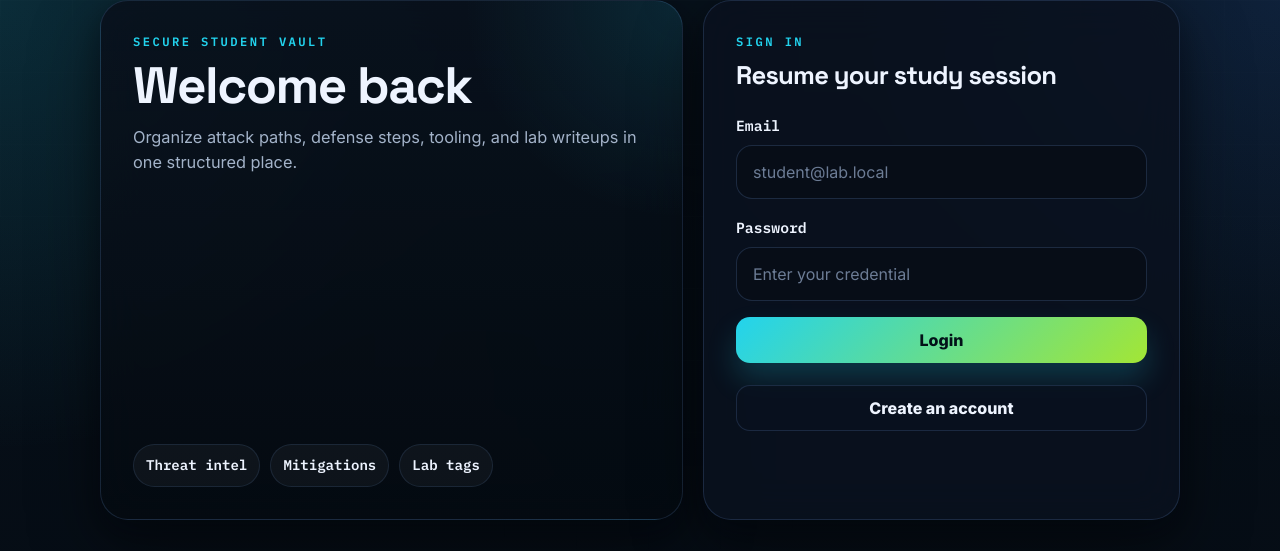
Test: AuthPage component › shows error state when auth response has no token
The image size is (1280, 551).
Type "user@example.com" into the field labelled "Email" at {"x": 942, "y": 172}, box [736,145,1147,199]
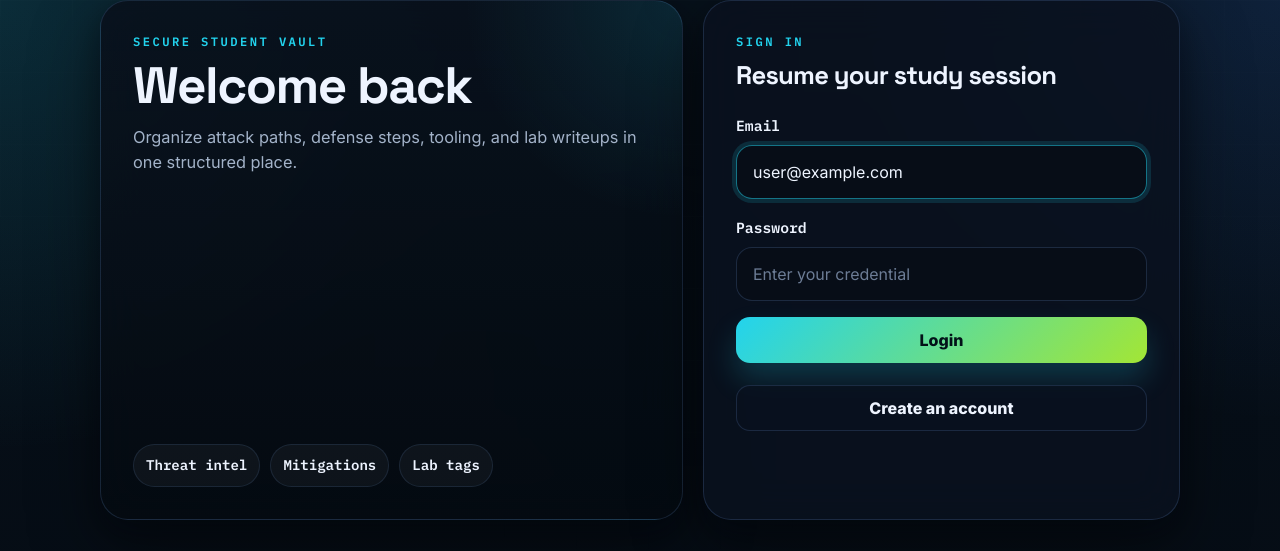
Type "wrong" into the password field labelled "Password" at {"x": 942, "y": 274}, box [736,247,1147,301]
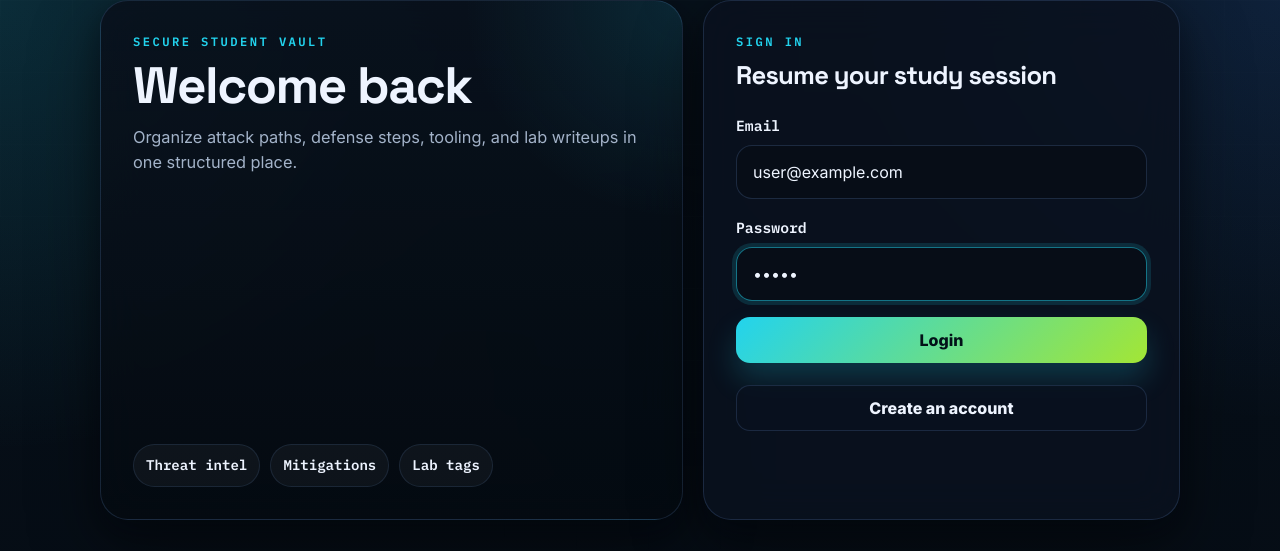
Click the button "Login" at {"x": 942, "y": 340}, box [736,317,1147,363]
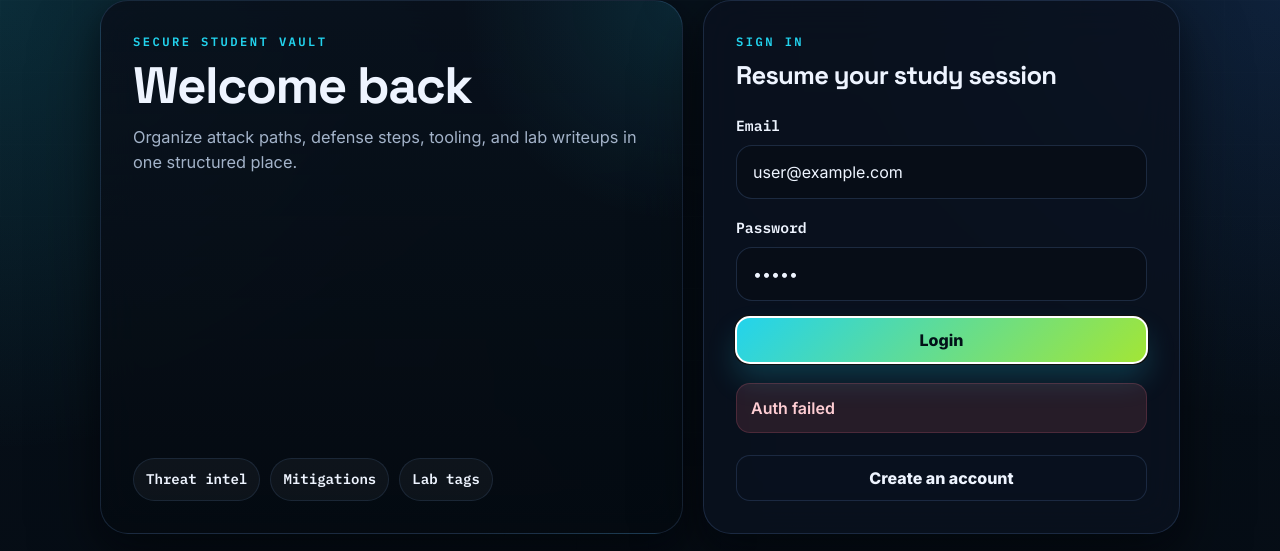
Now the text "Auth failed" is shown, box [736,383,1147,433]
